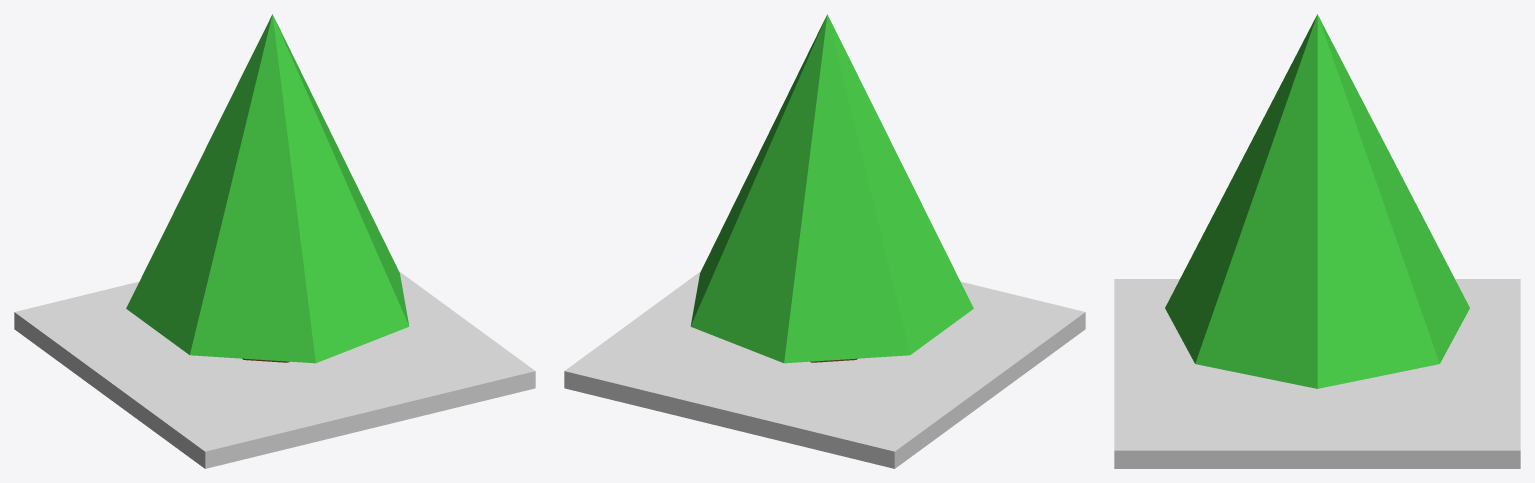
The model's file is Wood_4 01.FBX.
The picture shows the model from 3 angles, left to right: view 1: azimuth 30°, elevation 25°; view 2: azimuth 150°, elevation 25°; view 3: azimuth 270°, elevation 25°; orthographic projection. The views are drawn at different scales.
Visible parts, largest first — view 1: Cone008, Box007; view 2: Cone008, Box007; view 3: Cone008, Box007.
Part boxes in pixels (bbox=[...]): Cone008: bbox=[126, 14, 409, 363]; Box007: bbox=[14, 271, 535, 468]; Cone008: bbox=[690, 14, 973, 363]; Box007: bbox=[564, 271, 1085, 468]; Cone008: bbox=[1165, 14, 1469, 388]; Box007: bbox=[1114, 279, 1520, 468].
Bounding box in the file's own units: 1 × 0.999 × 1.
Materials: 2 (2 with a texture image).
